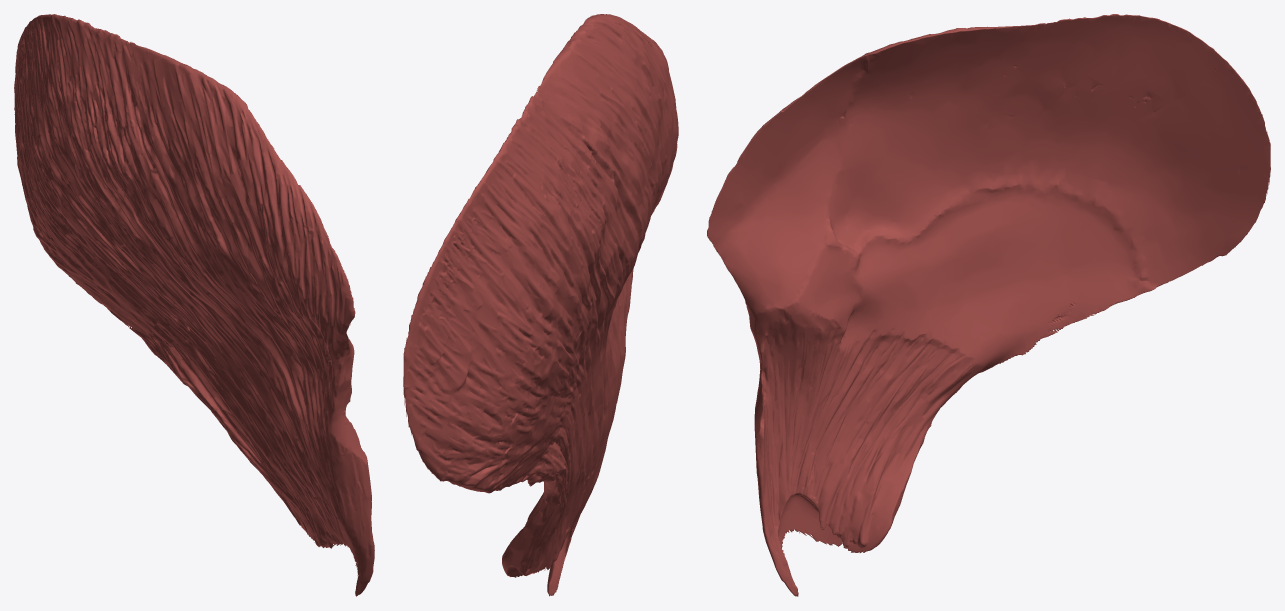
File: FMA49007.glb
The picture shows the model from 3 angles, left to right: view 1: azimuth 30°, elevation 25°; view 2: azimuth 150°, elevation 25°; view 3: azimuth 270°, elevation 25°; orthographic projection. The views are drawn at different scales.
Visible parts, largest first — view 1: FMA49007; view 2: FMA49007; view 3: FMA49007.
Part boxes in pixels (bbox=[...]): FMA49007: bbox=[14, 14, 374, 596]; FMA49007: bbox=[403, 14, 678, 596]; FMA49007: bbox=[707, 14, 1270, 596].
Bounding box in the file's own units: 0.0378 × 0.1124 × 0.1103.
